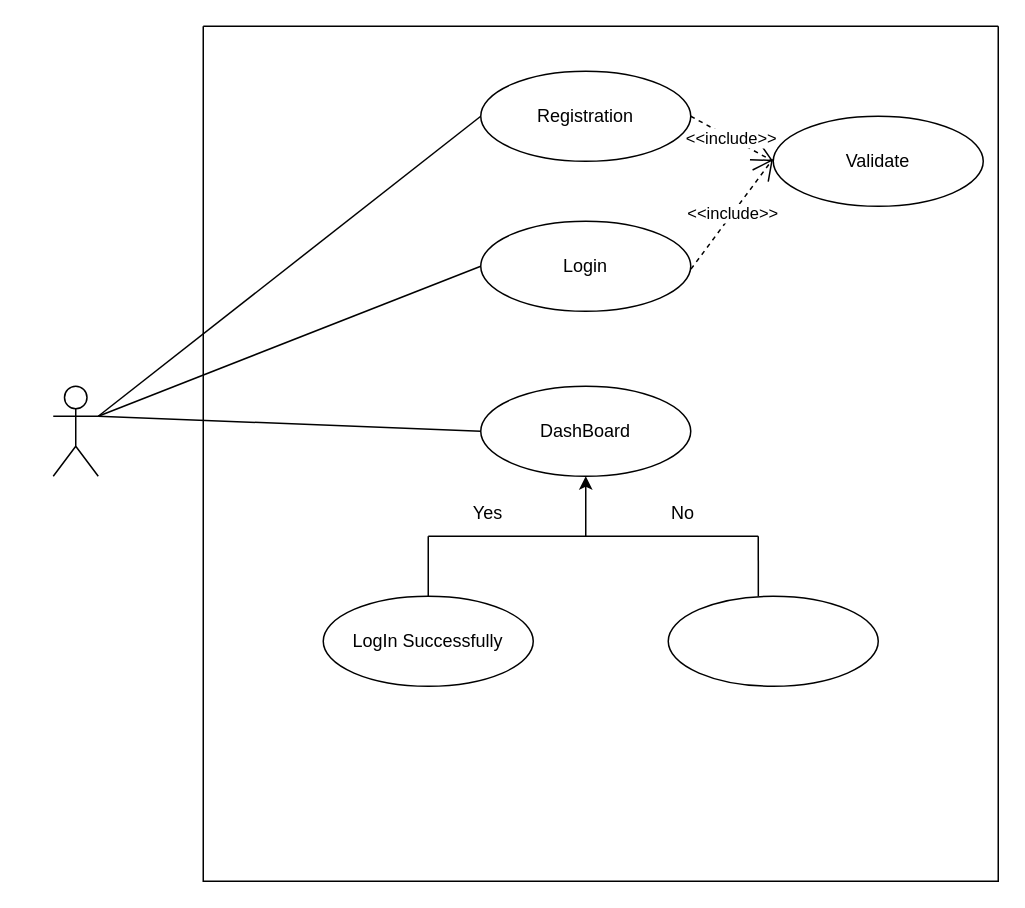
Image size: 1025x908. Some labels were removed from this diagram. Here are the shapes that lost their labels. From the top down, the centre of each, then its label:
(75,430): Ride Owner
(772,640): Error
